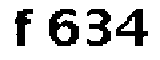3: (84, 5, 113, 50)
4: (114, 6, 150, 49)
6: (46, 4, 83, 48)
f: (10, 6, 38, 49)
